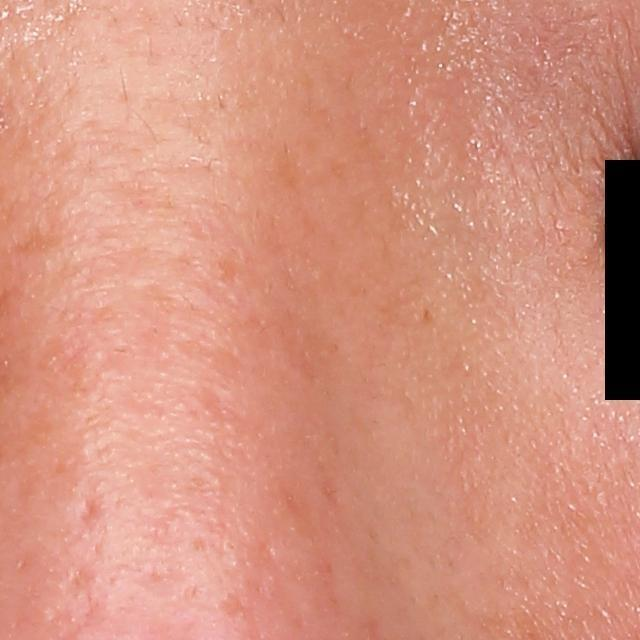atrophic_scar: (75, 485, 110, 524)
